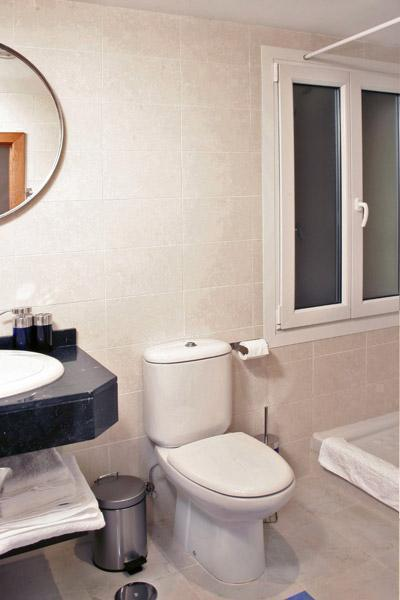Bote de Basura: (91, 469, 157, 577)
Lavamanos: (7, 342, 67, 401)
Sanitario: (143, 345, 294, 597)
Ventana: (270, 49, 395, 333)
